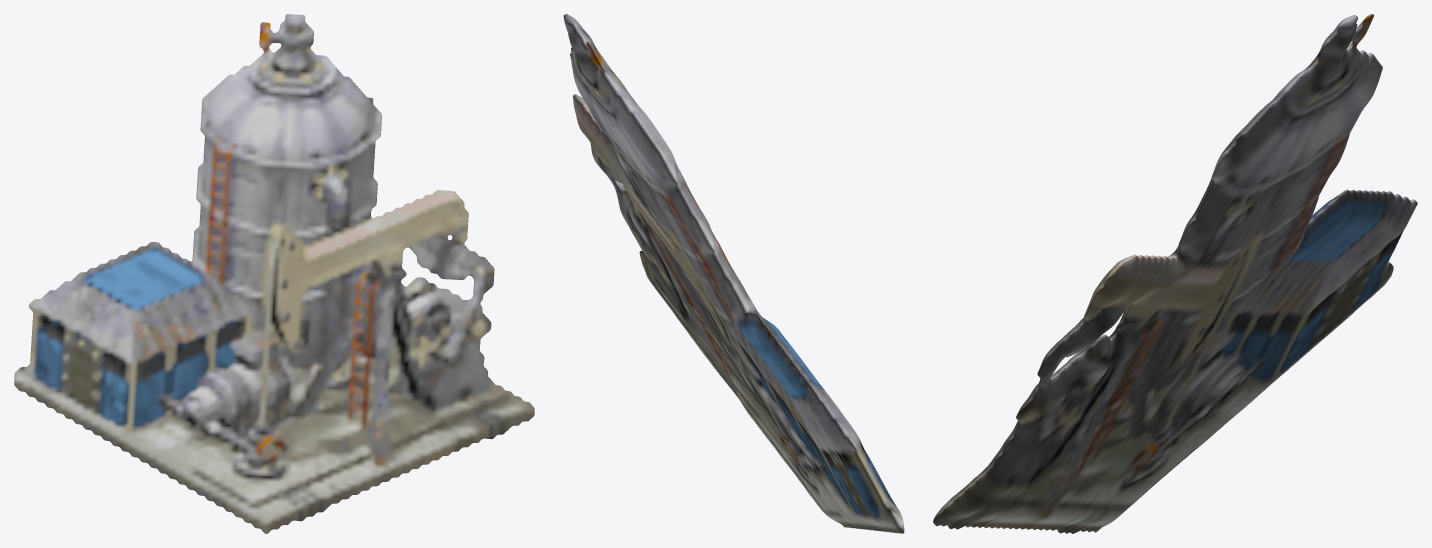
File: caoild.glb
3 views of the same model, side by side, from view 1: azimuth 30°, elevation 25°; view 2: azimuth 150°, elevation 25°; view 3: azimuth 270°, elevation 25° (orthographic). The views are drawn at different scales.
Parts seen in each view (by area): view 1: caoild; view 2: caoild; view 3: caoild.
Boxes of the visible parts, x1,y1,x2,y2 form: caoild: (14, 14, 534, 533); caoild: (563, 14, 904, 533); caoild: (933, 14, 1417, 533).
Bounding box in the file's own units: 1.75 × 1.97 × 1.45.
